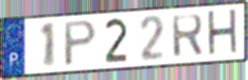1: (38, 21, 57, 71)
2: (137, 13, 166, 63), (104, 17, 129, 64)
H: (206, 7, 241, 59)
P: (62, 18, 99, 69)
R: (170, 13, 205, 60)
